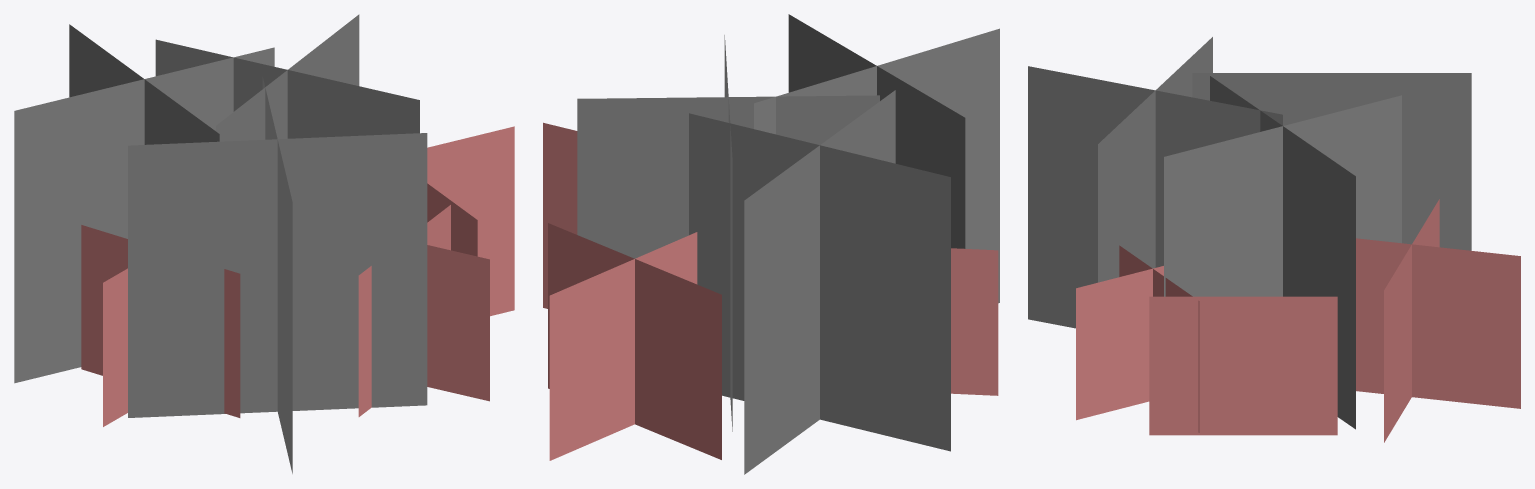
File: SM_grass_flower_patch1.fbx
3 renders of one model, left to right at view 1: azimuth 30°, elevation 25°; view 2: azimuth 150°, elevation 25°; view 3: azimuth 270°, elevation 25°, orthographic. The views are drawn at different scales.
Parts seen in each view (by area): view 1: SM_grass_flower_patch1; view 2: SM_grass_flower_patch1; view 3: SM_grass_flower_patch1.
Boxes of the visible parts, <box> form: SM_grass_flower_patch1: <box>14,14,514,473</box>; SM_grass_flower_patch1: <box>543,14,999,474</box>; SM_grass_flower_patch1: <box>1028,37,1520,442</box>.
Size of the model in its own units: 65.02 by 38.43 by 65.94.
